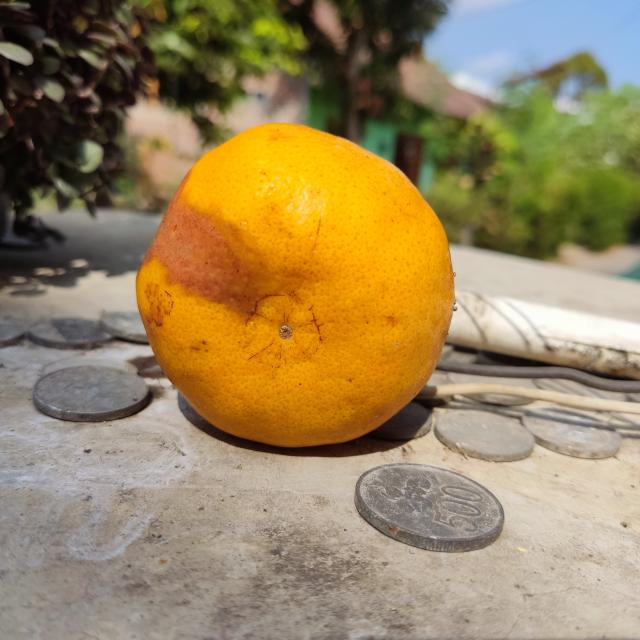orange: (135, 121, 455, 446)
